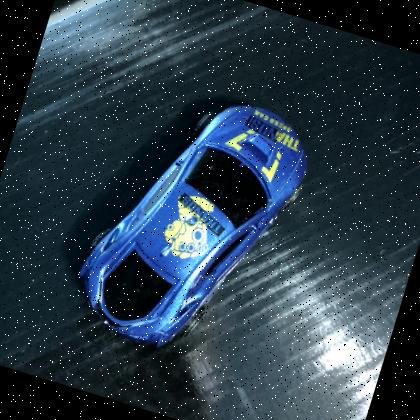Car: (54, 63, 331, 384)
